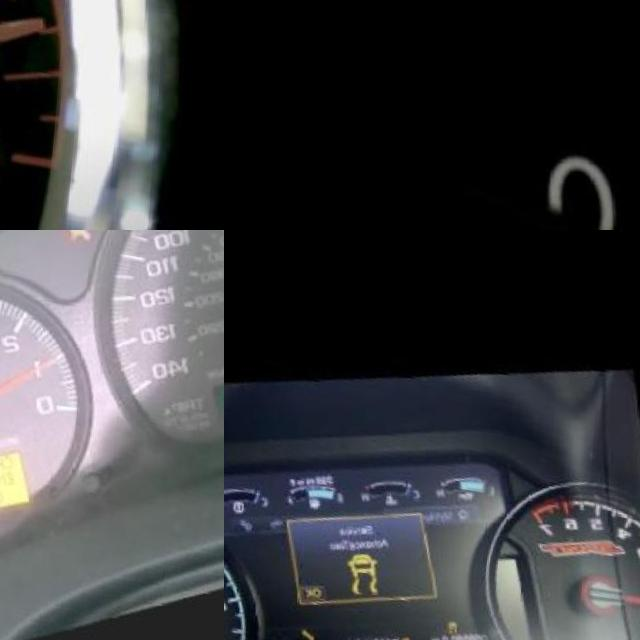Engine cooling system: (389, 482, 403, 497)
Low fuel level: (314, 491, 324, 503)
